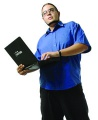male: (38, 2, 65, 32)
